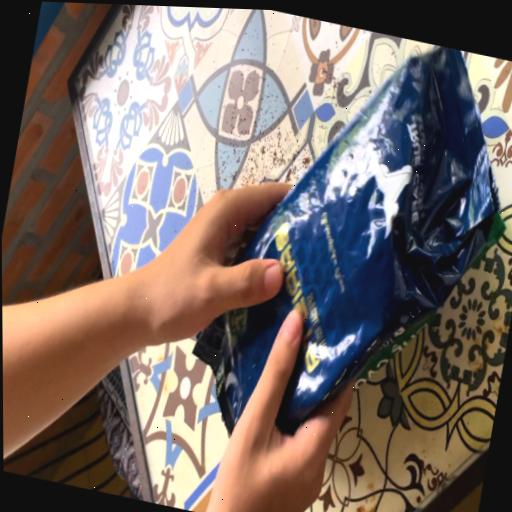cafe_hat: (193, 44, 503, 431)
